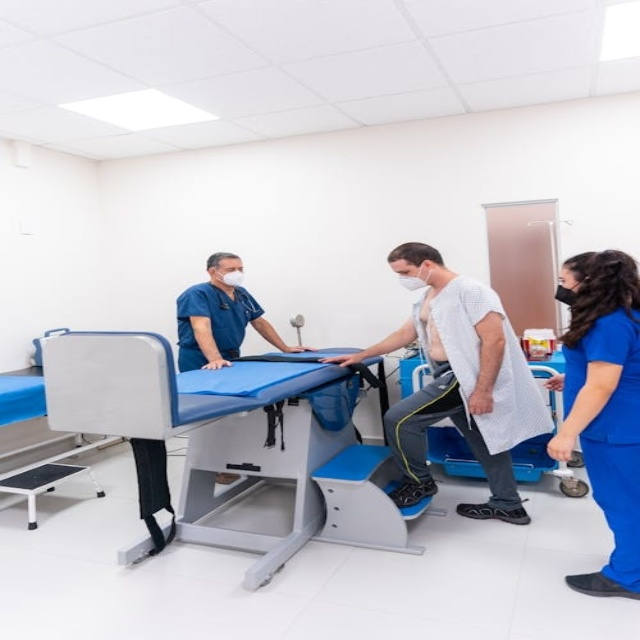Mascara: (397, 266, 431, 291), (213, 268, 245, 287), (554, 283, 578, 305)
Sin_gafas: (218, 264, 246, 273), (399, 263, 416, 277), (557, 277, 575, 285)
Sin_guantes: (547, 428, 577, 463), (541, 372, 565, 392)
